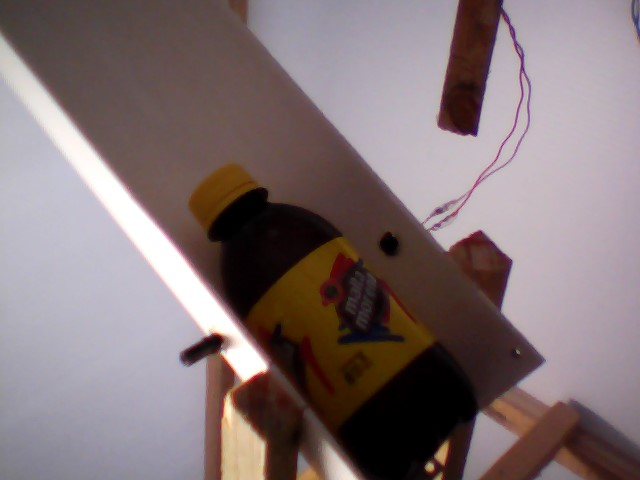plastico: (184, 159, 497, 480)
